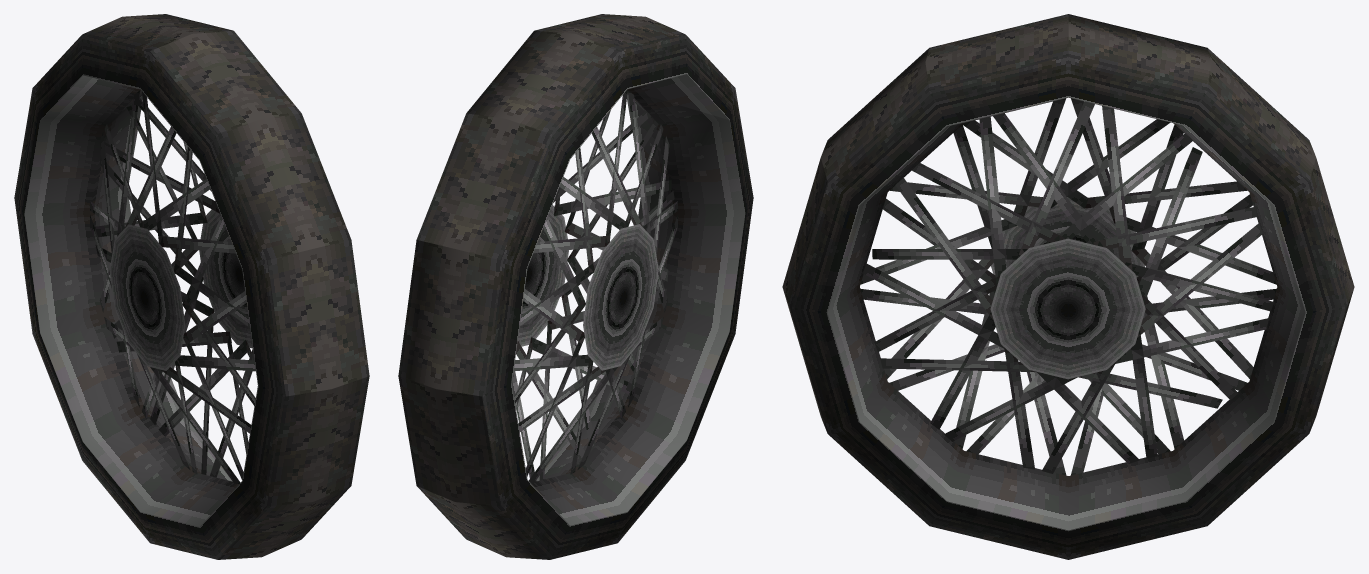
Rendered from SanchezFrontWheel.fbx.
3 views of the same model, side by side, from view 1: azimuth 30°, elevation 25°; view 2: azimuth 150°, elevation 25°; view 3: azimuth 270°, elevation 25° (orthographic). The views are drawn at different scales.
Visible parts, largest first — view 1: wheel_front; view 2: wheel_front; view 3: wheel_front.
Boxes of the visible parts, box(x1,y1,x2,y2) form: wheel_front: box(14, 14, 369, 559); wheel_front: box(398, 14, 753, 559); wheel_front: box(782, 14, 1354, 559).
Bounding box in the file's own units: 13.96 × 65.35 × 65.35.
1 material, 1 textured.
